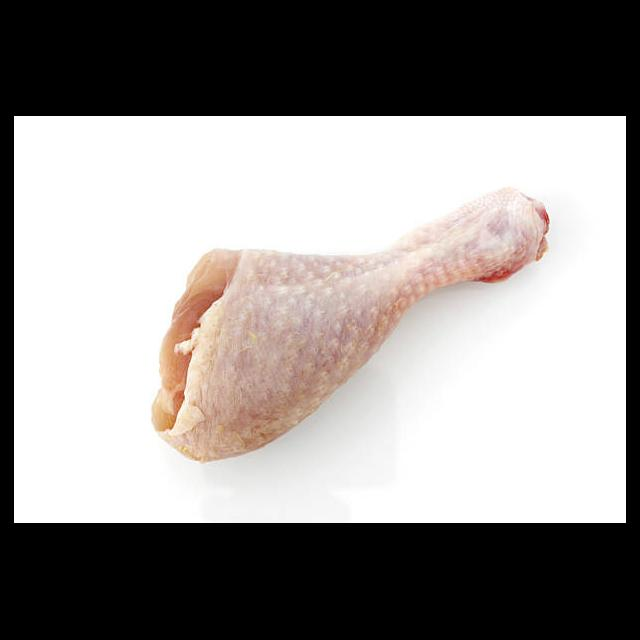chicken: (150, 184, 552, 463)
